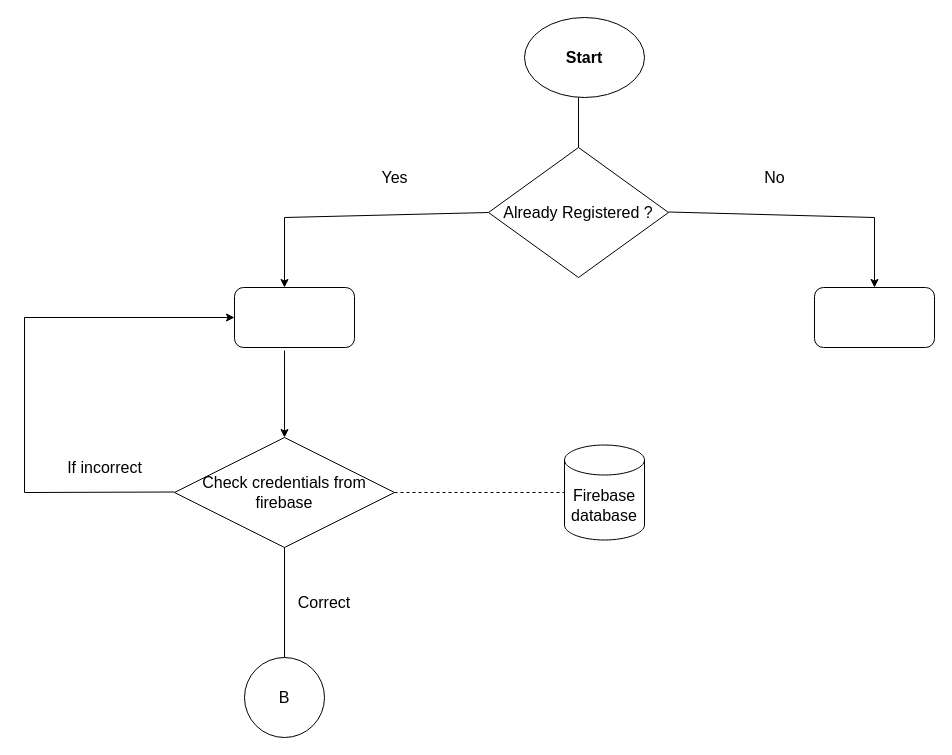
Some shapes in this 952 by 755 pixel diagram are drawn without their labels. Each missing label, with the centre of its shape:
"Login" belongs at (x=294, y=317).
"Register" belongs at (x=874, y=317).
